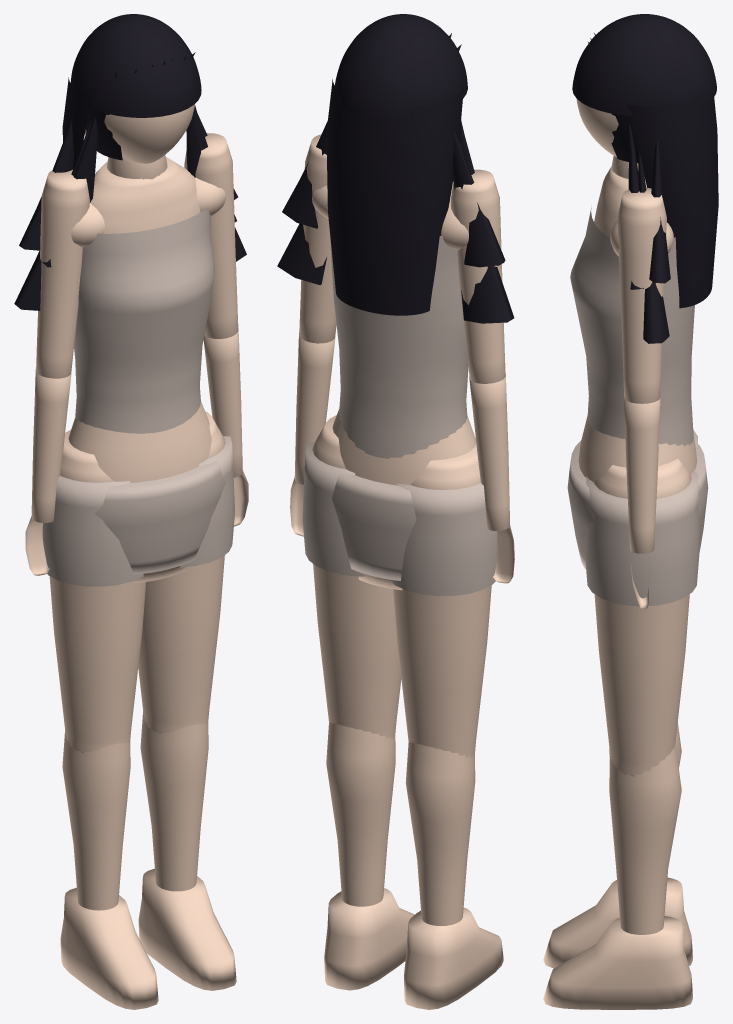
The model's file is girl.glb.
3 renders of one model, left to right at view 1: azimuth 30°, elevation 25°; view 2: azimuth 150°, elevation 25°; view 3: azimuth 270°, elevation 25°, orthographic.
Visible parts, largest first — view 1: underwearTop, upperLegR, upperLegL, hair, underwearBottom, lowerLegR, lowerLegL, upperArmR, footR, footL, baseLegR, pelvis (+14 smaller); view 2: hairLength, underwearTop, upperLegR, upperLegL, hair, lowerLegL, lowerLegR, baseLegR, footR, hairStrand (×4), footL, underwearBottom (+9 smaller); view 3: upperLegL, underwearTop, hairLength, hair, baseLegL, footL, lowerLegL, upperArmL, forearmL, footR, hairStrand (×3), pelvis (+4 smaller).
Part boxes in pixels (x1=…): underwearTop: x1=74, y1=207, x2=214, y2=433; upperLegR: x1=49, y1=430, x2=146, y2=752; upperLegL: x1=138, y1=411, x2=225, y2=733; hair: x1=70, y1=14, x2=201, y2=117; underwearBottom: x1=95, y1=460, x2=225, y2=574; lowerLegR: x1=62, y1=731, x2=130, y2=910; lowerLegL: x1=140, y1=711, x2=208, y2=891; upperArmR: x1=36, y1=169, x2=89, y2=378; footR: x1=60, y1=888, x2=158, y2=1009; footL: x1=138, y1=868, x2=236, y2=990; baseLegR: x1=42, y1=475, x2=143, y2=586; pelvis: x1=68, y1=401, x2=211, y2=582; hairLength: x1=326, y1=79, x2=463, y2=315; underwearTop: x1=328, y1=219, x2=468, y2=458; upperLegR: x1=393, y1=443, x2=491, y2=757; upperLegL: x1=312, y1=415, x2=401, y2=738; hair: x1=335, y1=14, x2=467, y2=119; lowerLegL: x1=326, y1=722, x2=395, y2=906; lowerLegR: x1=405, y1=741, x2=475, y2=925; baseLegR: x1=392, y1=483, x2=497, y2=595; footR: x1=404, y1=907, x2=503, y2=1009; hairStrand (×4): x1=277, y1=121, x2=514, y2=323; footL: x1=324, y1=888, x2=414, y2=990; underwearBottom: x1=332, y1=473, x2=416, y2=580; upperLegL: x1=594, y1=458, x2=691, y2=776; underwearTop: x1=570, y1=206, x2=694, y2=446; hairLength: x1=627, y1=95, x2=718, y2=308; hair: x1=572, y1=14, x2=716, y2=116; baseLegL: x1=584, y1=470, x2=699, y2=606; footL: x1=543, y1=916, x2=692, y2=1009; lowerLegL: x1=609, y1=743, x2=681, y2=934; upperArmL: x1=617, y1=188, x2=666, y2=403; forearmL: x1=624, y1=396, x2=660, y2=553; footR: x1=543, y1=877, x2=692, y2=968; hairStrand (×3): x1=628, y1=124, x2=670, y2=343; pelvis: x1=578, y1=416, x2=696, y2=482.
Size of the model in its own units: 0.417 by 1.66 by 0.2751.
